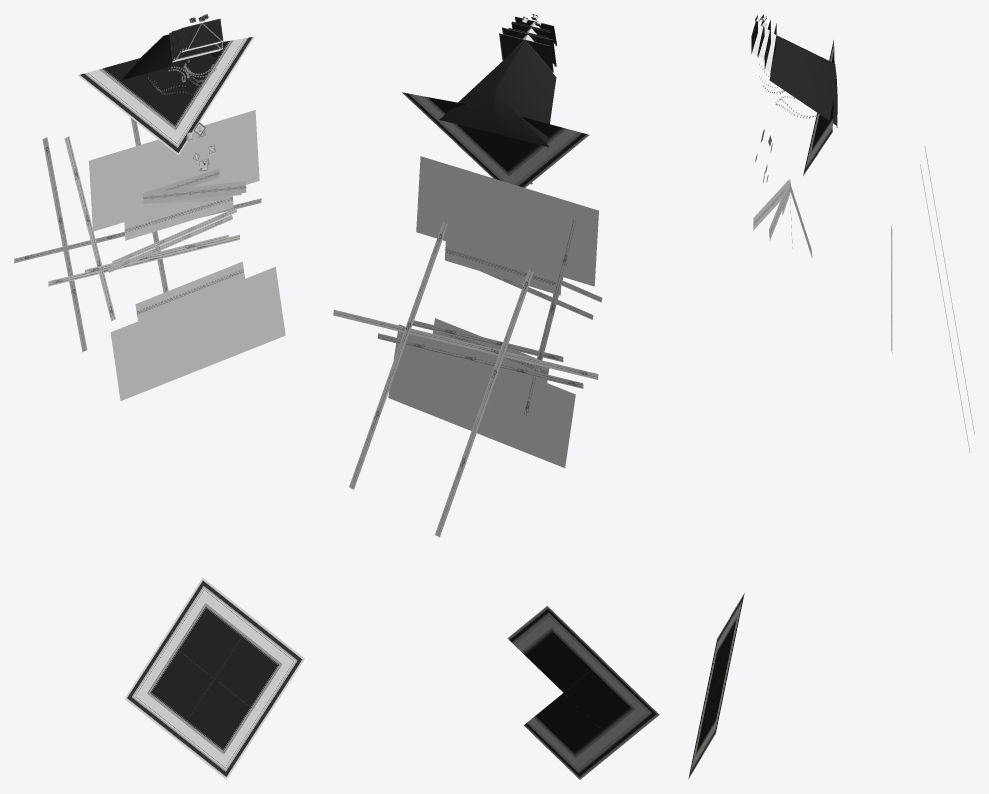
The picture shows the model from 3 angles, left to right: view 1: azimuth 30°, elevation 25°; view 2: azimuth 150°, elevation 25°; view 3: azimuth 270°, elevation 25°; orthographic projection. The views are drawn at different scales.
Visible parts, largest first — view 1: bianco.1, bianco, bordo_01.1 (×2), bordo_01 (×2), bordo_01.3 (×2), bordo_01.2, nero, topgrande2, topgrande2.4; view 2: bianco, bianco.1, bordo_01.1 (×2), nero, bordo_01 (×2), cinturino_03 (×7), bordo_01.2, bordo_01.3, topgrande2.5; view 3: nero, bordo_01.1 (×2), bordo_01.2, bordo_01.3, bordo_01.
Part boxes in pixels (x1,y1,x2,y2): bianco.1: (110, 267, 285, 400); bianco: (89, 110, 259, 231); bordo_01.1 (×2): (127, 62, 265, 779); bordo_01 (×2): (78, 58, 213, 738); bordo_01.3 (×2): (175, 36, 304, 719); bordo_01.2: (163, 578, 253, 678); nero: (121, 34, 221, 80); topgrande2: (184, 18, 223, 50); topgrande2.4: (172, 29, 222, 60); bianco: (416, 156, 598, 286); bianco.1: (388, 324, 575, 467); bordo_01.1 (×2): (457, 128, 619, 779); nero: (438, 41, 556, 147); bordo_01 (×2): (522, 117, 659, 747); cinturino_03 (×7): (349, 221, 598, 537); bordo_01.2: (507, 606, 602, 692); bordo_01.3: (402, 92, 474, 143); topgrande2.5: (499, 33, 553, 72); nero: (769, 35, 837, 127); bordo_01.1 (×2): (688, 113, 825, 779); bordo_01.2: (716, 593, 744, 685); bordo_01.3: (702, 663, 730, 755); bordo_01: (703, 617, 730, 707).
Size of the model in its own units: 2063 by 5878 by 1989.
Materials: 19 (16 with a texture image).
